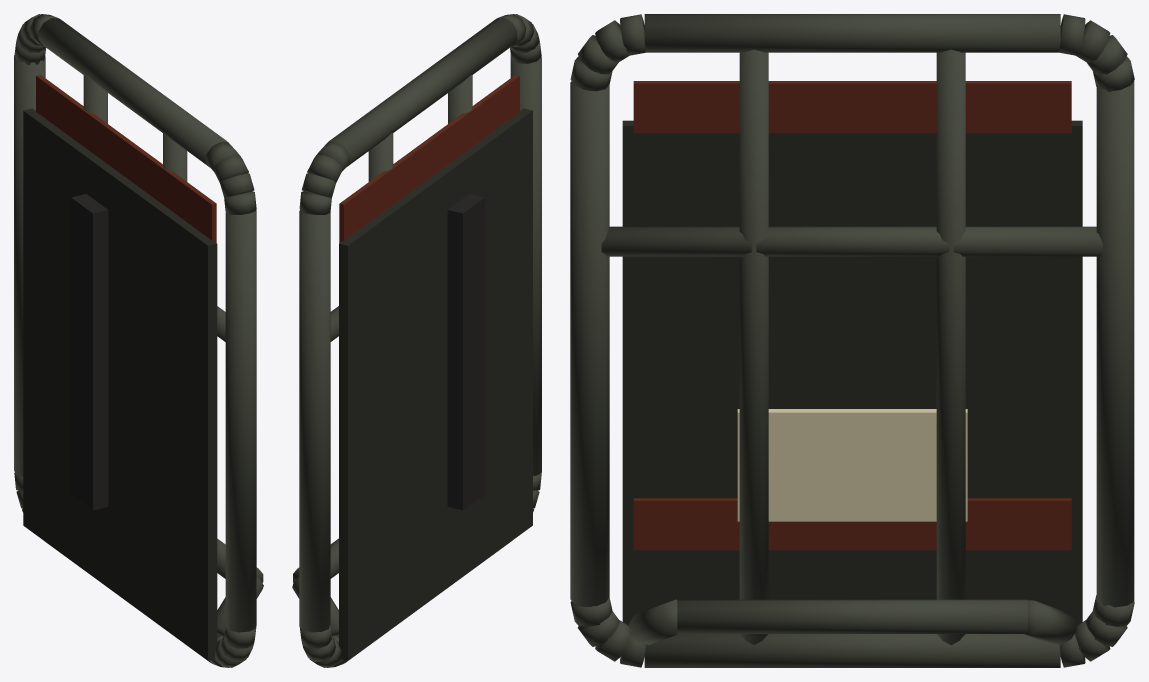
File: held_crash_bar.glb
3 views of the same model, side by side, from view 1: azimuth 30°, elevation 25°; view 2: azimuth 150°, elevation 25°; view 3: azimuth 270°, elevation 25° (orthographic). The views are drawn at different scales.
Parts seen in each view (by area): view 1: panel, frame_14, strap, rust_23, frame_19, frame_4, upright_9, upright_-9, frame_15, frame_17, frame_16, frame_13 (+5 smaller); view 2: panel, frame_4, strap, rust_23, frame_19, frame_14, upright_9, upright_-9, frame_3, frame_1, frame_2, frame_5 (+5 smaller); view 3: panel, frame_14, rust_23, frame_4, plate, rust_-19, upright_-9, upright_9, frame_19, cross, frame_9, push_1 (+10 smaller).
Part boxes in pixels (x1,y1,x2,y2): panel: (23,108,217,660); frame_14: (225,209,256,632); strap: (71,194,108,510); rust_23: (36,74,216,242); frame_19: (38,18,227,167); frame_4: (14,55,45,476); upright_9: (83,75,107,123); upright_-9: (163,133,187,181); frame_15: (224,191,256,214); frame_17: (213,155,248,182); frame_16: (220,173,254,197); frame_13: (224,625,256,648); panel: (339,108,532,660); frame_4: (299,210,330,632); strap: (447,194,484,510); rust_23: (339,74,519,242); frame_19: (328,18,517,167); frame_14: (510,55,541,475); upright_9: (368,133,393,181); upright_-9: (448,75,472,123); frame_3: (299,191,331,214); frame_1: (307,155,342,183); frame_2: (301,173,335,198); frame_5: (299,625,331,648); panel: (622,120,1082,625); frame_14: (570,81,609,606); rust_23: (633,81,1071,133); frame_4: (1096,80,1134,607); plate: (737,409,967,521); rust_-19: (633,498,1071,550); upright_-9: (739,49,768,644); upright_9: (936,49,965,645); frame_19: (644,14,1060,52); cross: (601,226,1102,256); frame_9: (644,634,1060,667); push_1: (677,599,1027,633).
Size of the model in its own units: 0.1452 by 0.656 by 0.5157.
